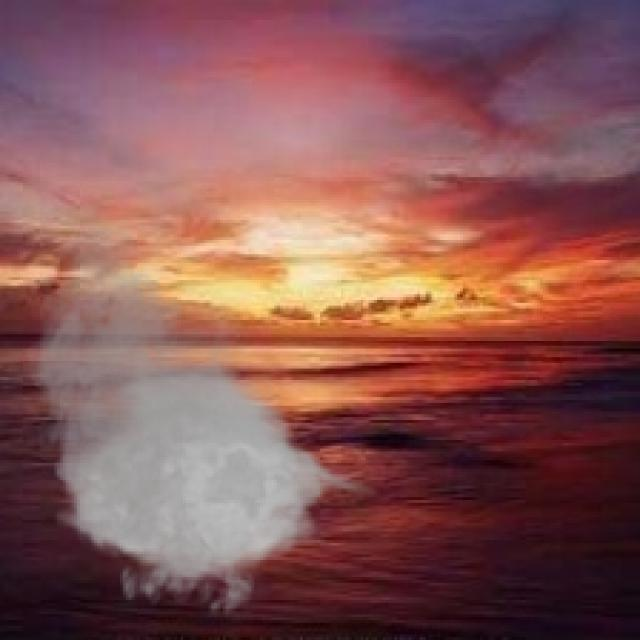Smoke: (17, 217, 377, 629)
